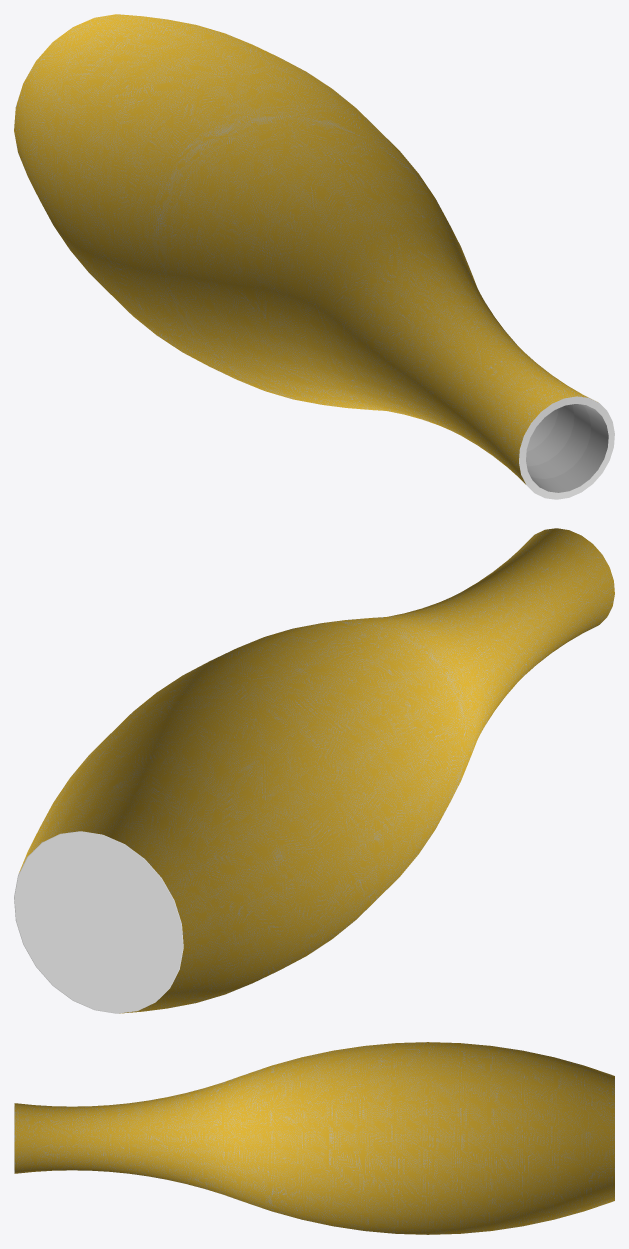
Rendered from model_scale.obj.
3 views of the same model, one above another, from view 1: azimuth 30°, elevation 25°; view 2: azimuth 150°, elevation 25°; view 3: azimuth 270°, elevation 25° (orthographic). The views are drawn at different scales.
Visible parts, largest first — view 1: mesh1_mesh1-geometry; view 2: mesh1_mesh1-geometry, mesh2_mesh2-geometry; view 3: mesh1_mesh1-geometry.
Part boxes in pixels (box(x1,y1,x2,y2)): mesh1_mesh1-geometry: box(14, 14, 614, 499); mesh1_mesh1-geometry: box(14, 528, 614, 1013); mesh2_mesh2-geometry: box(14, 831, 183, 1013); mesh1_mesh1-geometry: box(14, 1042, 614, 1234).
Size of the model in its own units: 0.0889 by 0.0889 by 0.2755.
